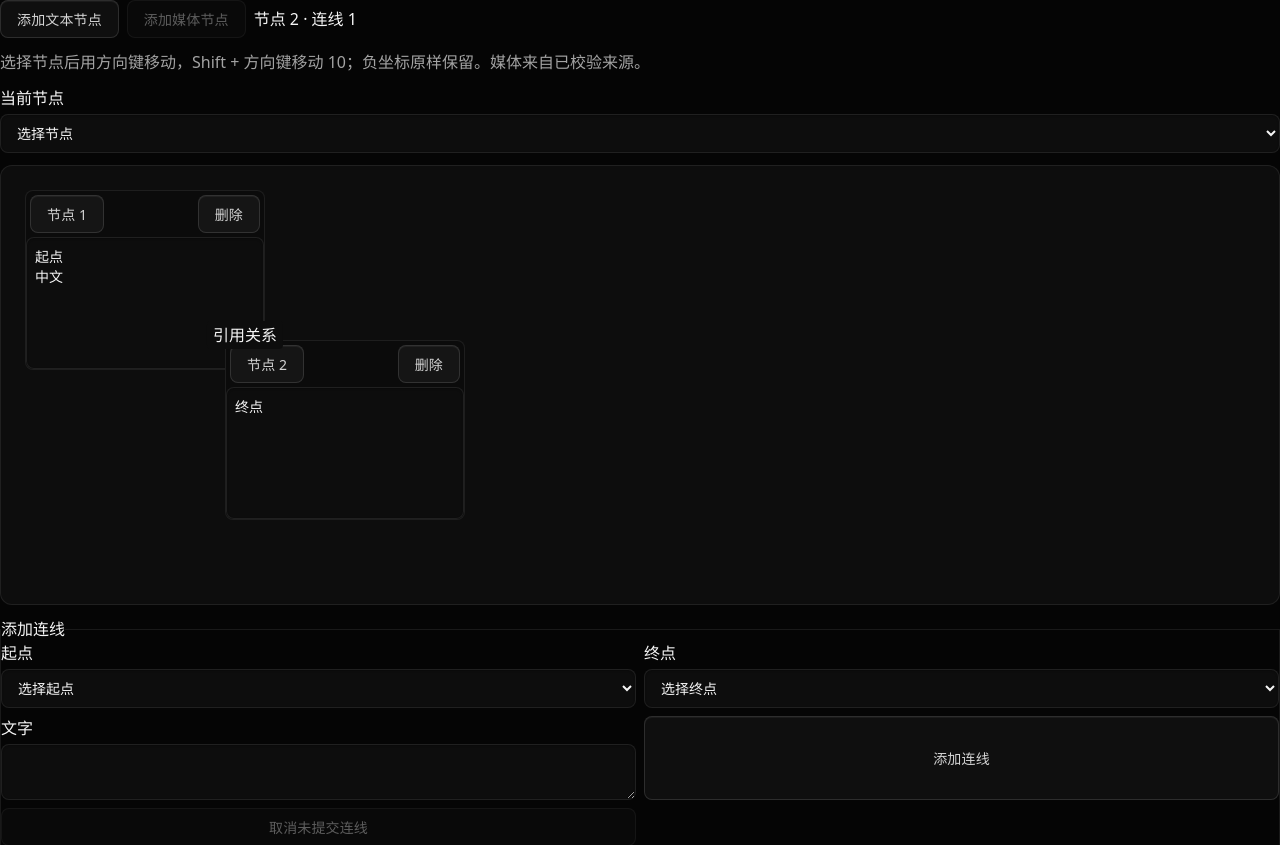
Test: CanonicalExpressionBoard › rejects oversized coordinates/dimensions without silently clamping
The width and height of the screenshot is (1280, 845).
Select "节点 1 · 文字" in the dropdown labelled "当前节点" at (640,134), box [0,114,1279,153]
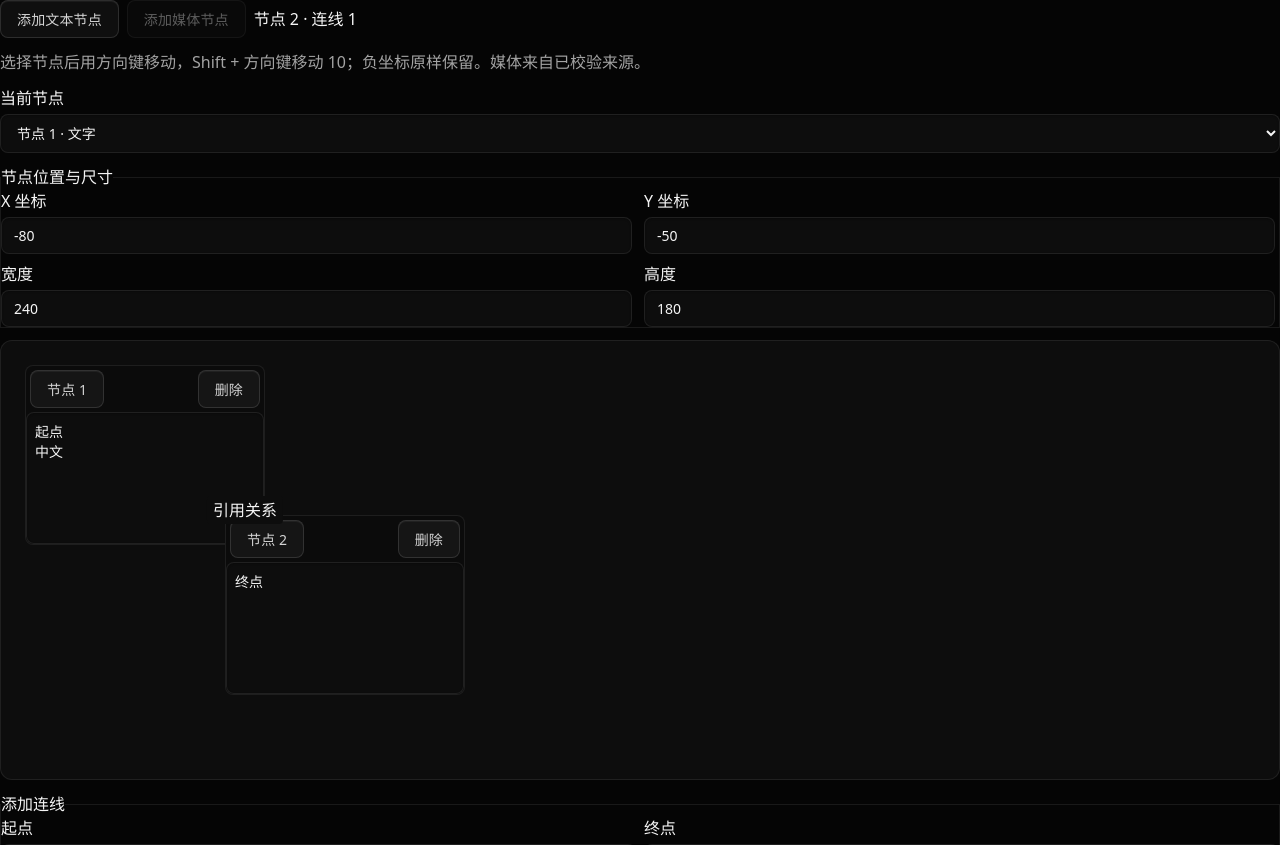
Replace the text in the field labelled "X 坐标" with "100001" at (316,236), box [1,217,632,254]
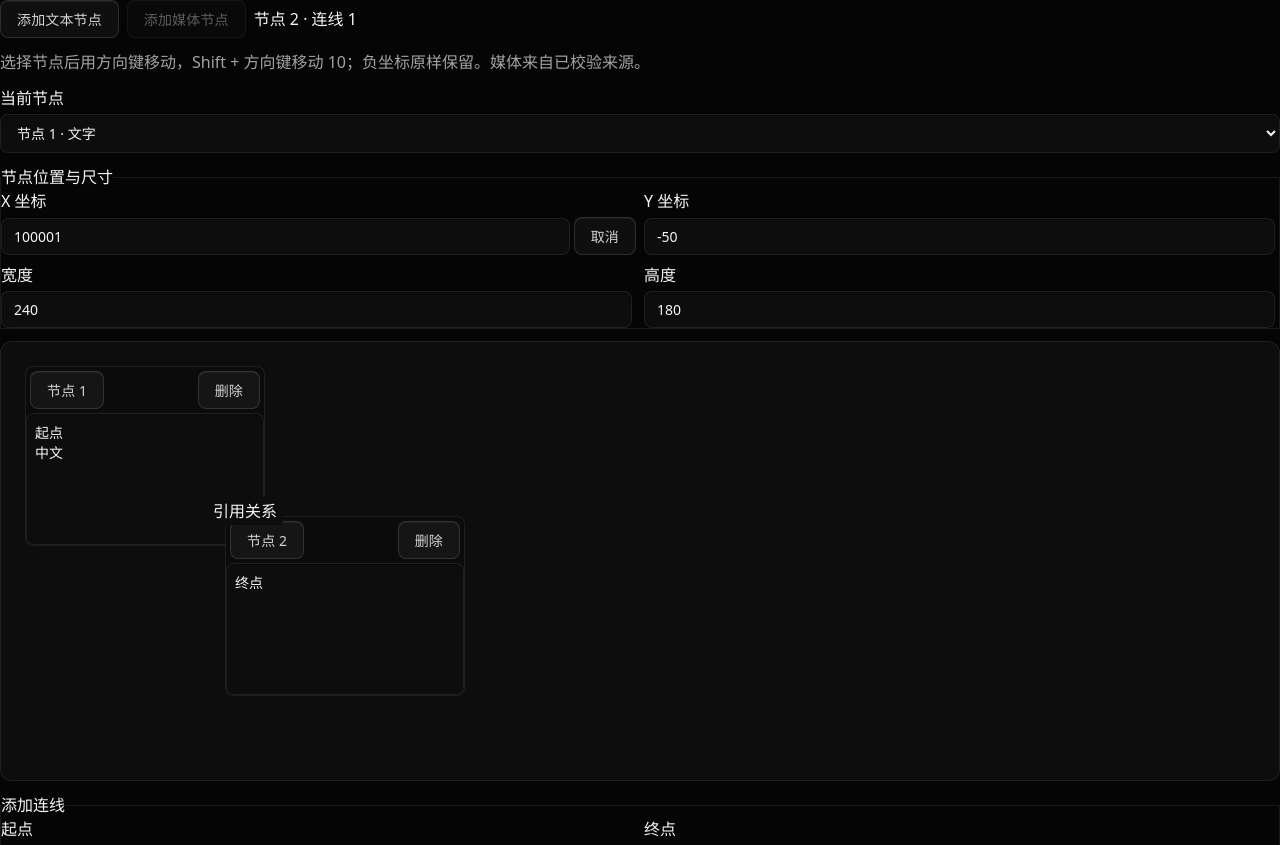
Leave the field labelled "X 坐标", box [1,218,570,254]
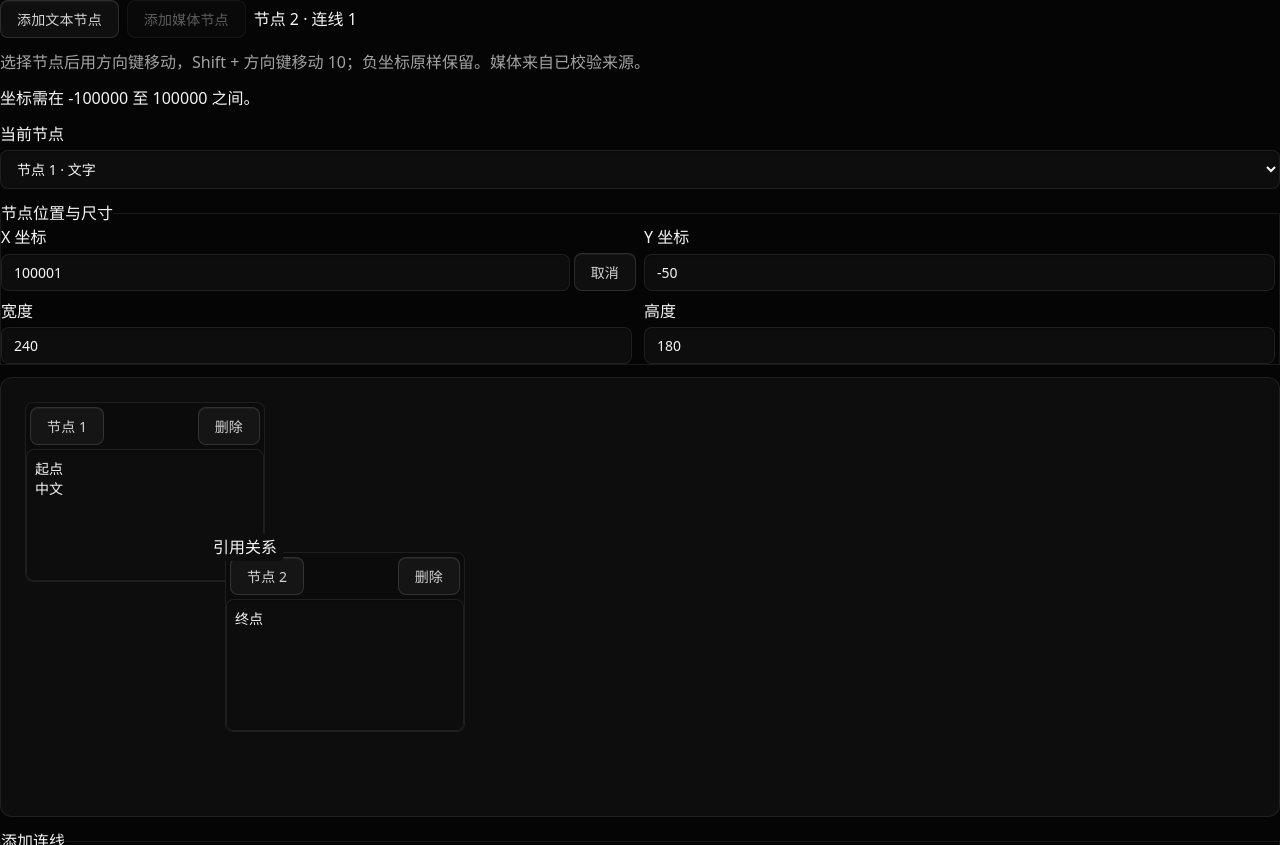
Expected: the message shows "坐标", [0,87,260,109]
Replace the text in the field labelled "高度" with "0" at (960,346), box [644,327,1275,364]
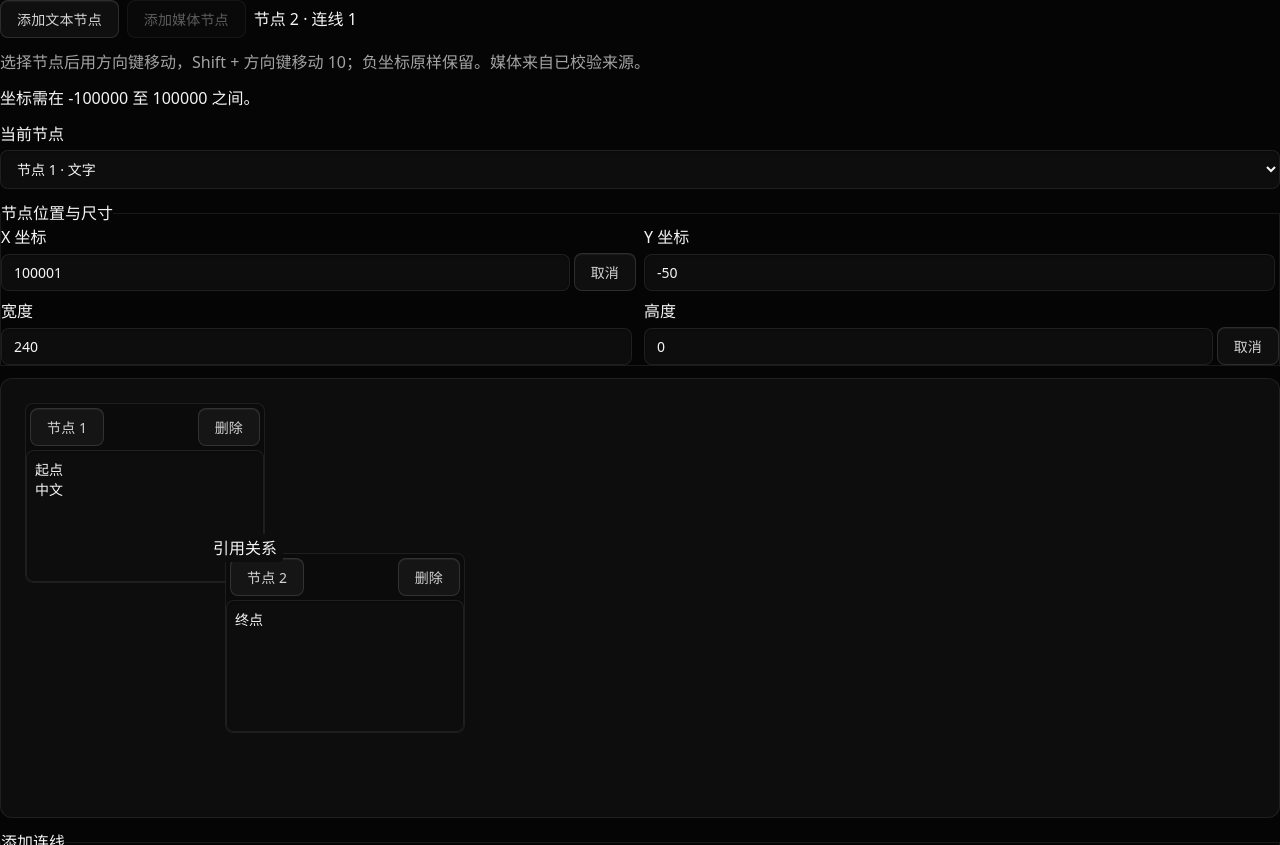
Leave the field labelled "高度", box [644,328,1213,364]
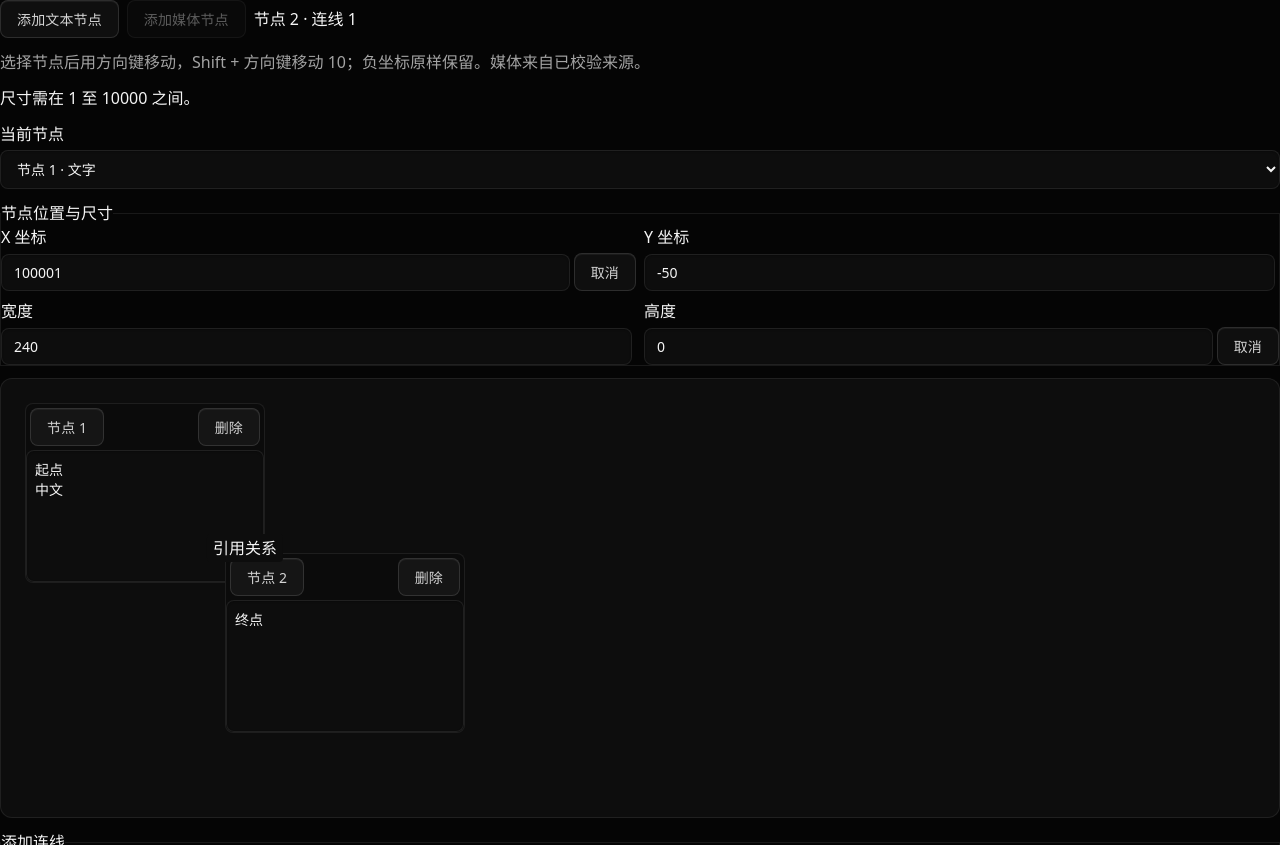
Expected: the message shows "尺寸", [0,87,200,109]
